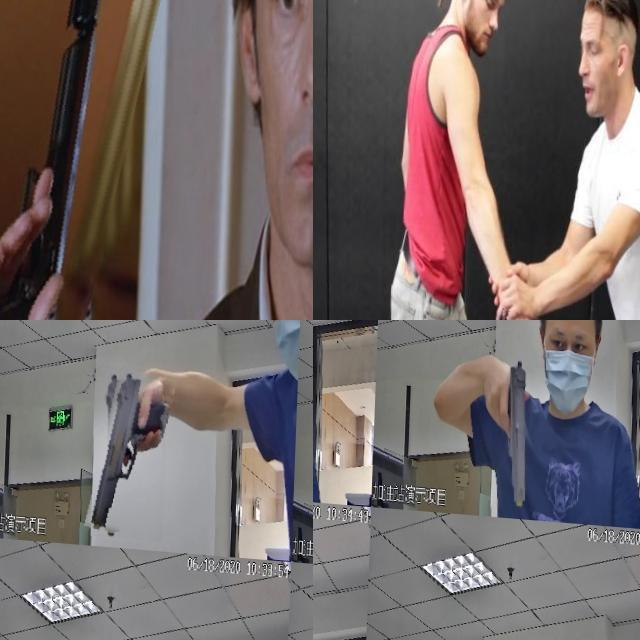gun-knife-thesis - v11 Yolov5 augmented: (0, 0, 170, 320), (94, 364, 170, 538), (480, 348, 532, 507), (313, 320, 336, 440)
